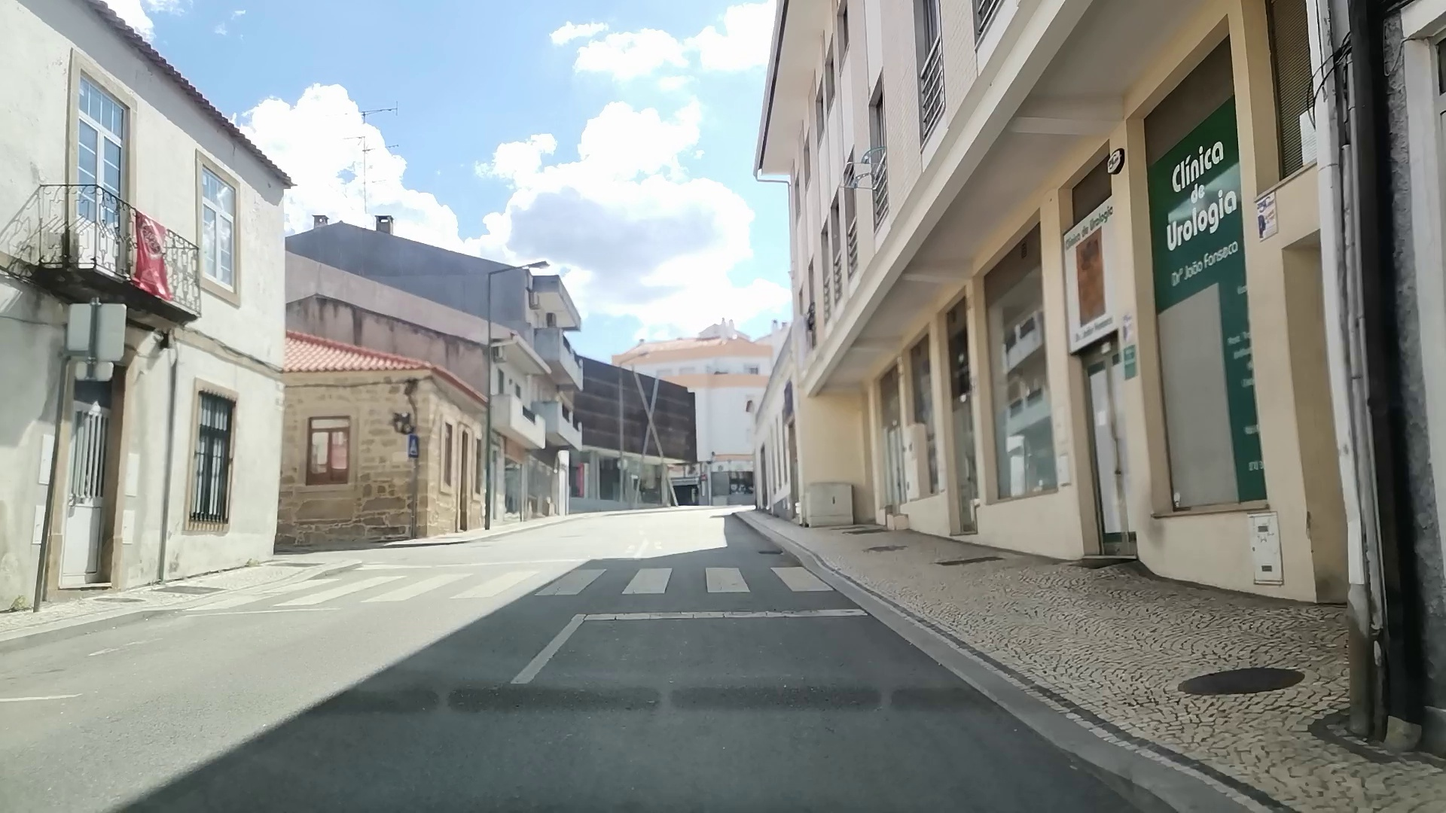Stairs: (206, 555, 837, 611)
